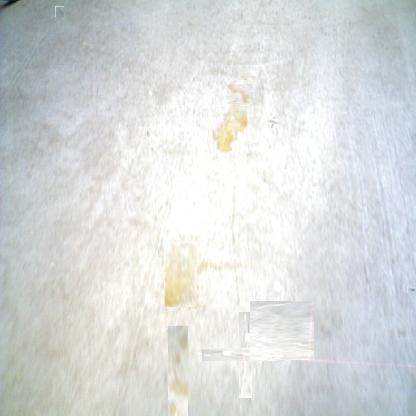liquid: (251, 299, 313, 361), (221, 330, 270, 380), (164, 242, 197, 307), (168, 325, 188, 416), (213, 105, 247, 151), (198, 258, 244, 272), (228, 78, 252, 104)
mark: (55, 6, 64, 17), (269, 118, 278, 126), (408, 286, 416, 294), (146, 128, 150, 139)
